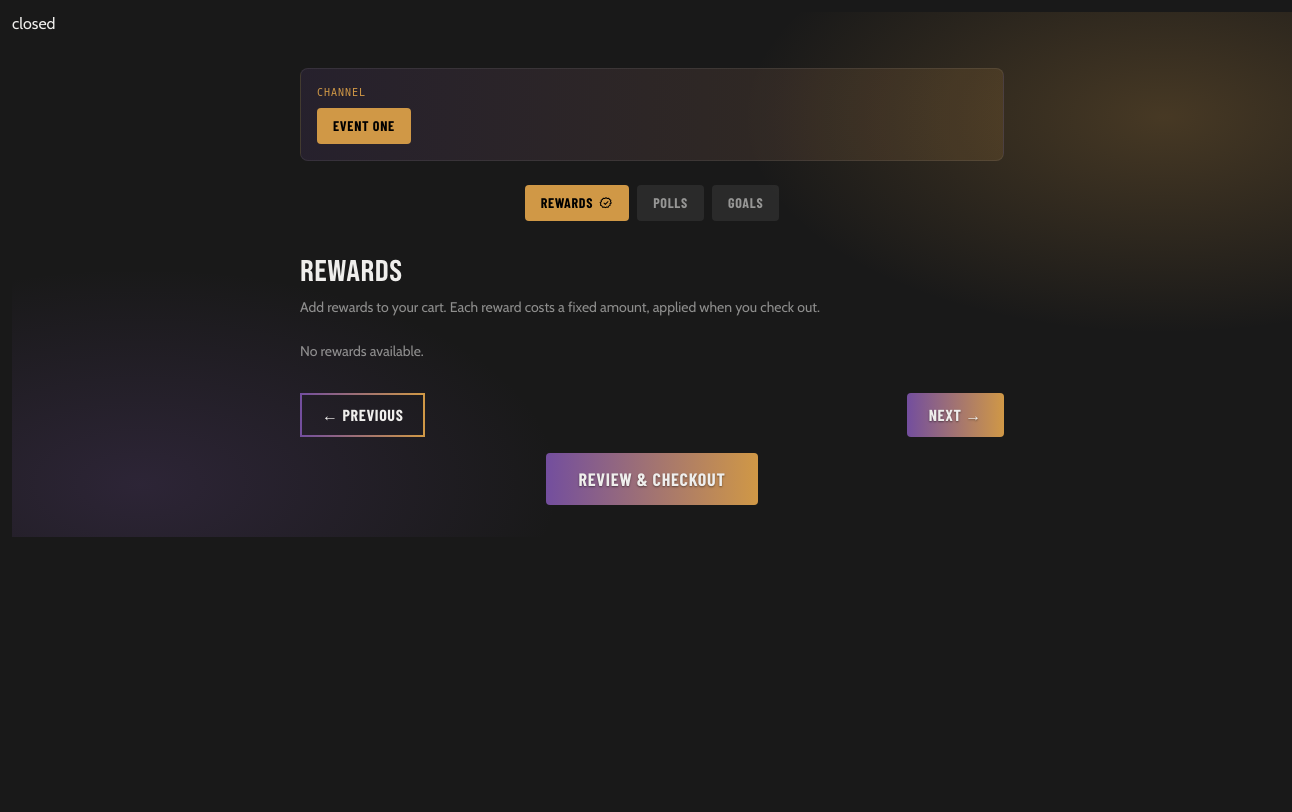
Test: DonateFlow (tabbed browse page) › switches to the polls tab when clicked
Click the button "polls" at (670, 203), box [637, 185, 704, 221]
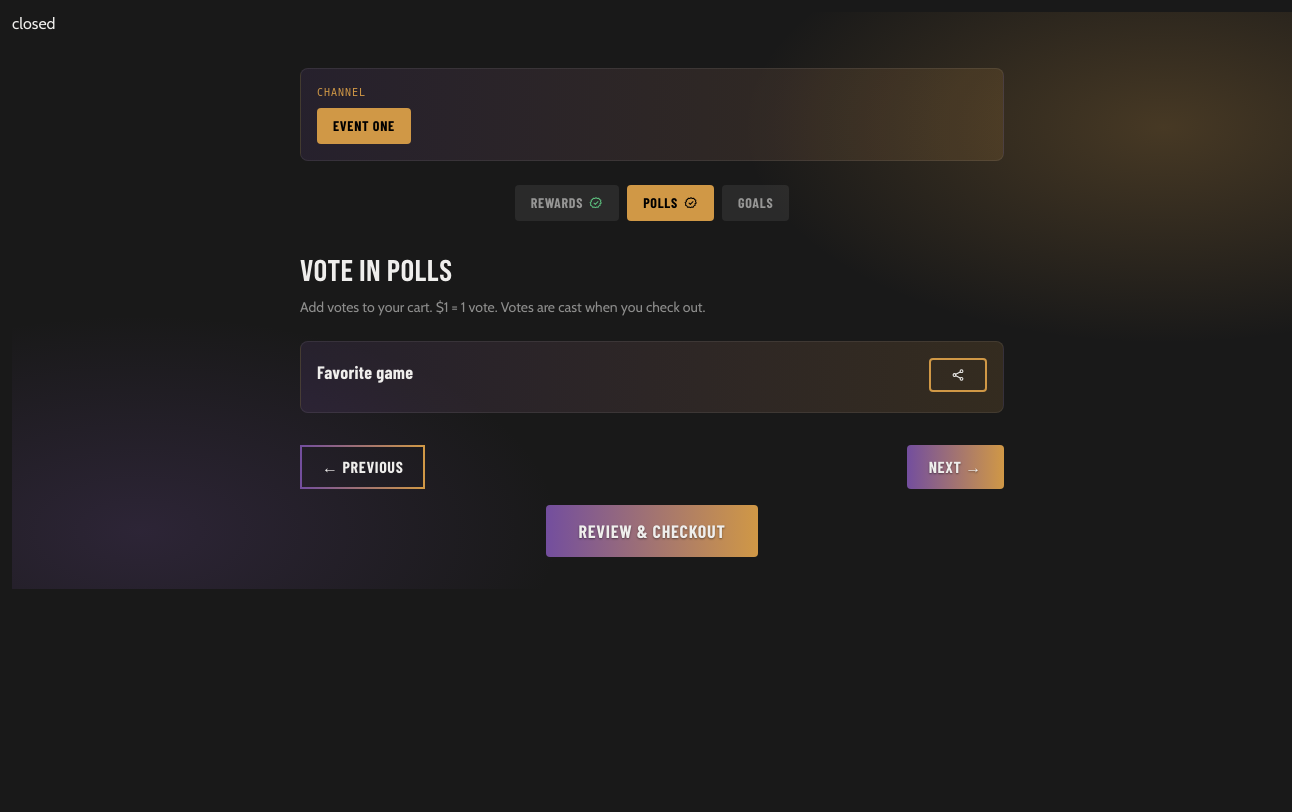
Result: the heading "Favorite game" is shown at [317, 358, 413, 386]
